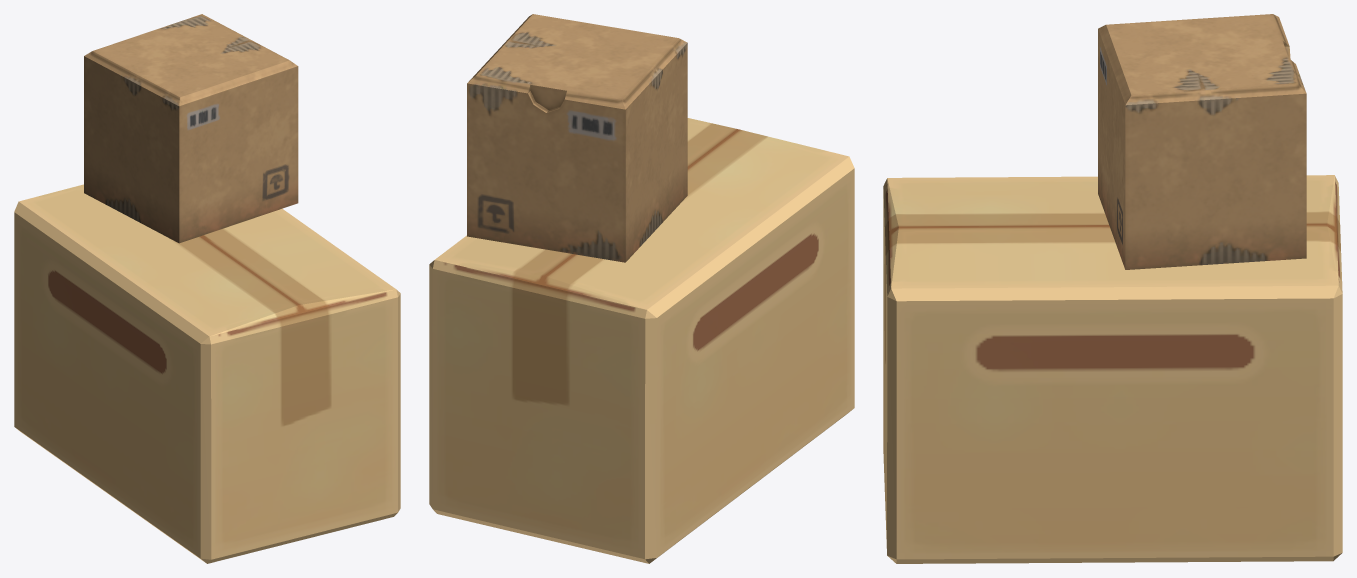
The model's file is WarehouseManager_18.obj.
The picture shows the model from 3 angles, left to right: view 1: azimuth 30°, elevation 25°; view 2: azimuth 150°, elevation 25°; view 3: azimuth 270°, elevation 25°; orthographic projection. The views are drawn at different scales.
Size of the model in its own units: 0.9396 by 1.68 by 1.5.
Materials: 2 (2 with a texture image).
